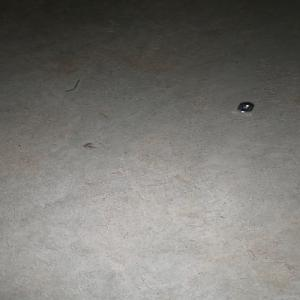Nut: (236, 102, 254, 113)
